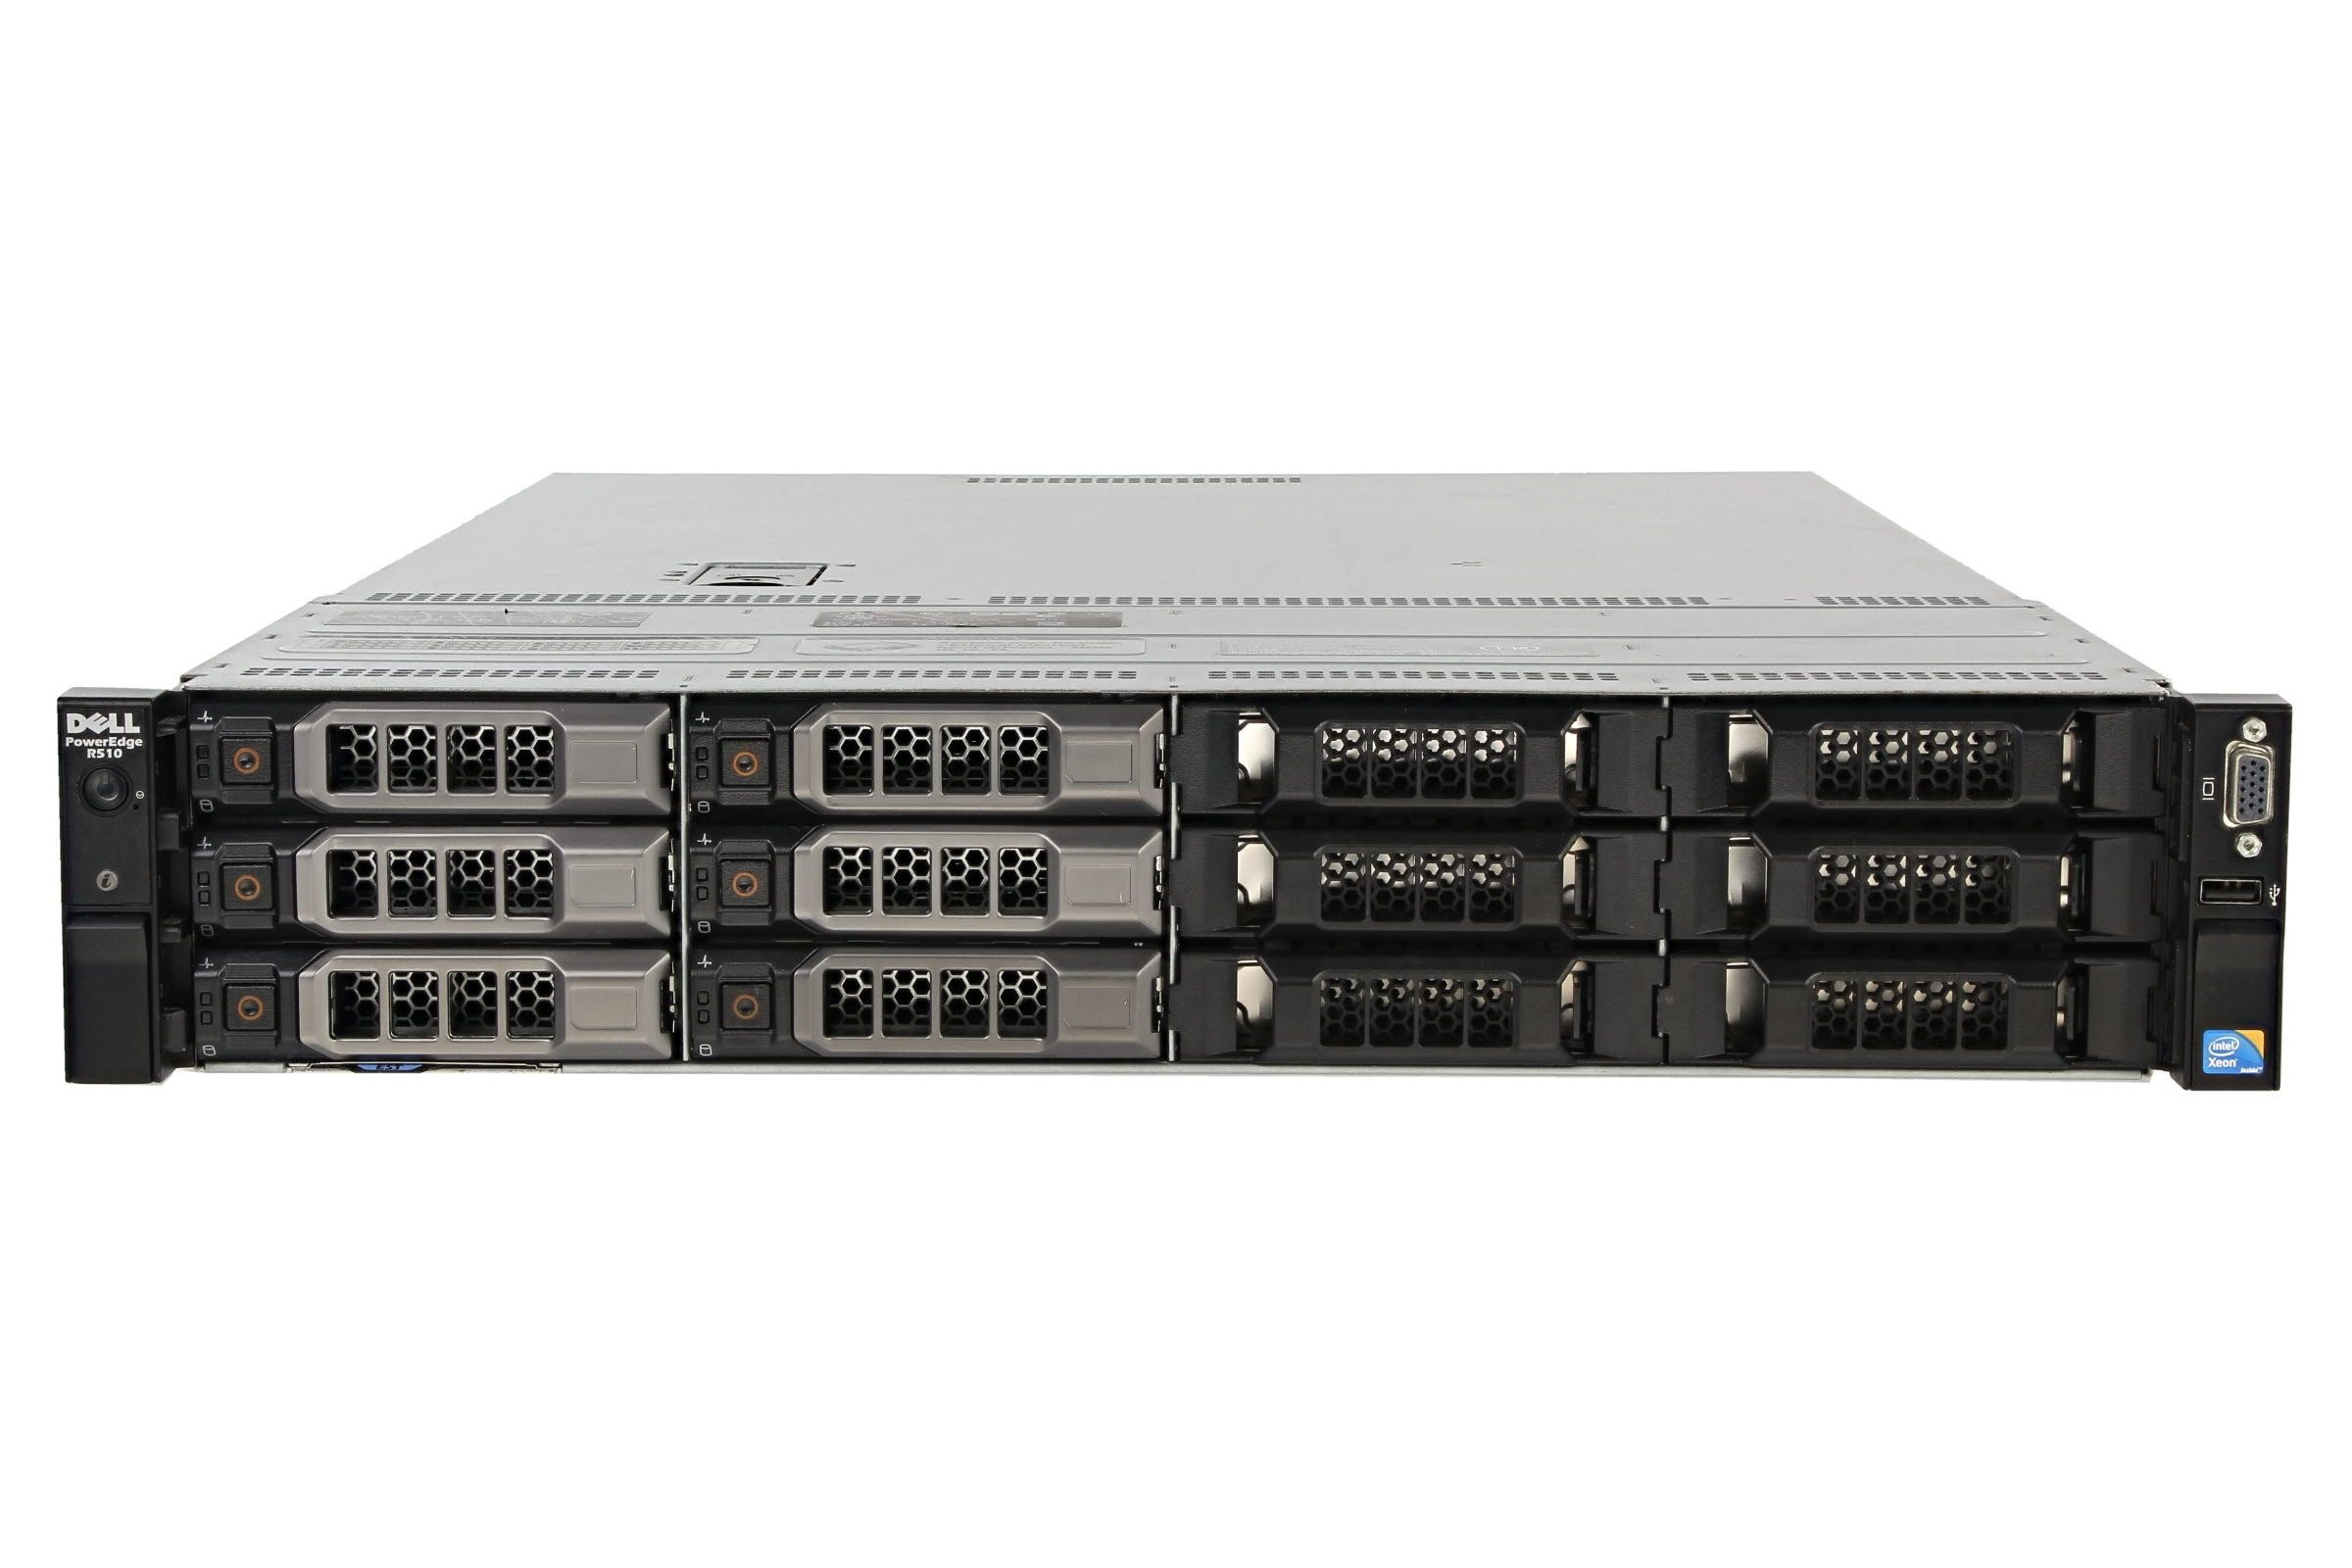Server: (21, 593, 2322, 1150)
